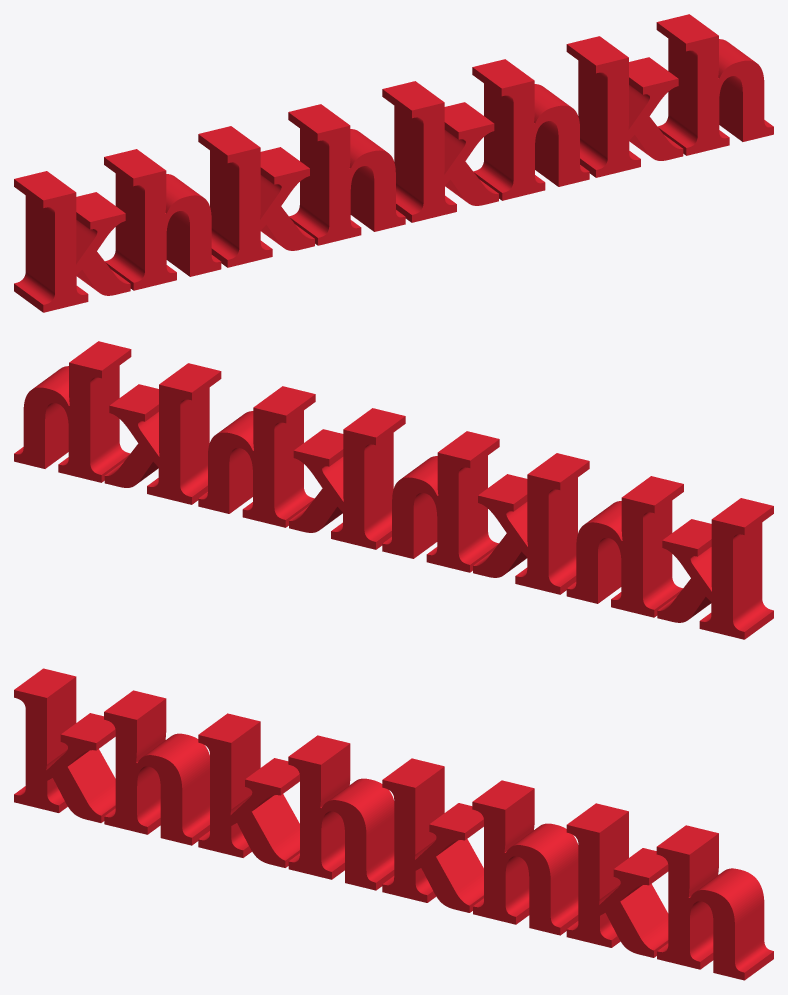
File: tinker.obj
3 renders of one model, top to bottom at view 1: azimuth 30°, elevation 25°; view 2: azimuth 150°, elevation 25°; view 3: azimuth 330°, elevation 25°, orthographic.
Parts seen in each view (by area): view 1: obj_0; view 2: obj_0; view 3: obj_0.
Boxes of the visible parts, x1,y1,x2,y2 form: obj_0: (14, 14, 773, 312); obj_0: (14, 341, 773, 639); obj_0: (14, 668, 773, 980).
Size of the model in its own units: 144 by 21.1 by 10.
